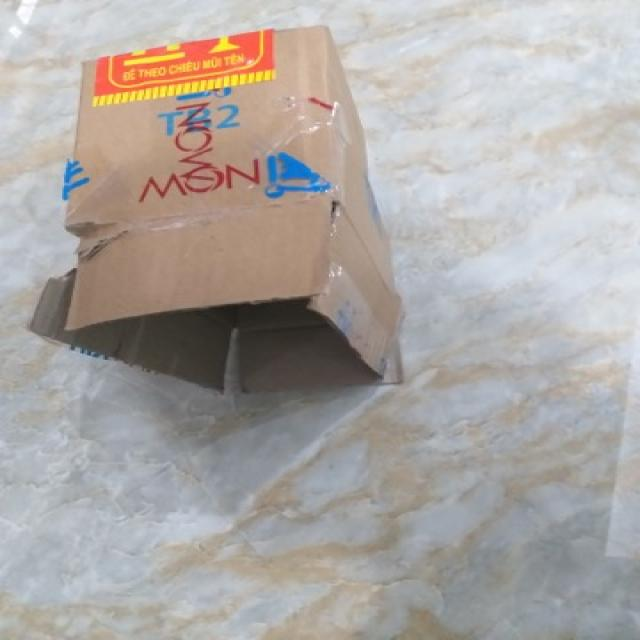PaperCardboard: (62, 21, 396, 386)
